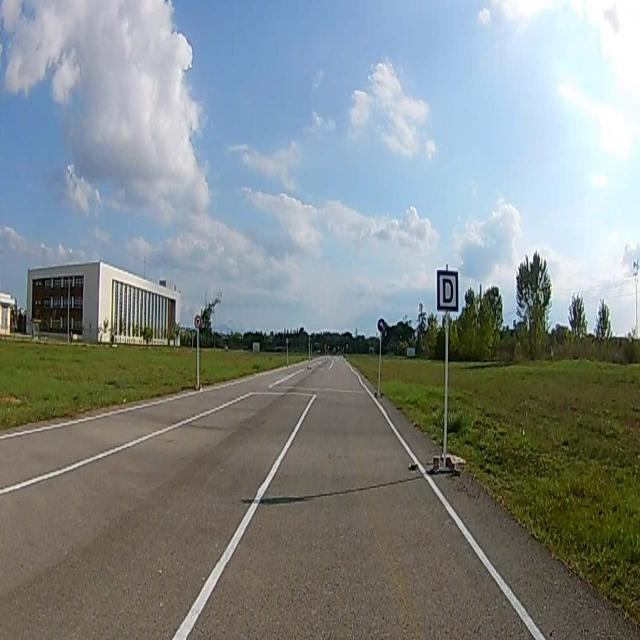durak: (438, 270, 458, 310)
